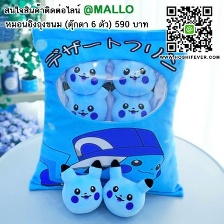snack: (21, 18, 194, 224)
